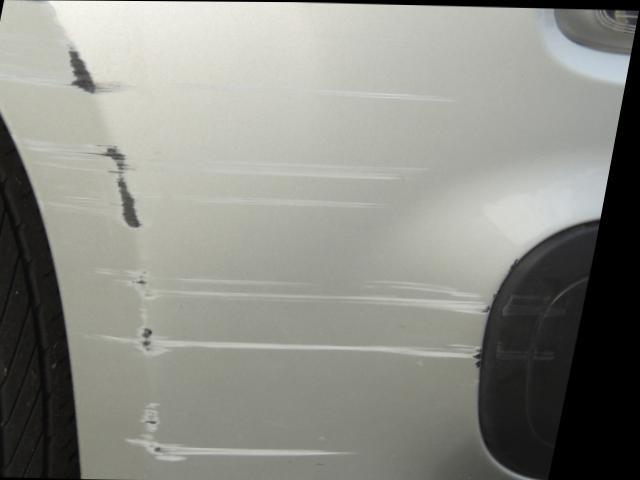rub: (0, 0, 506, 480)
